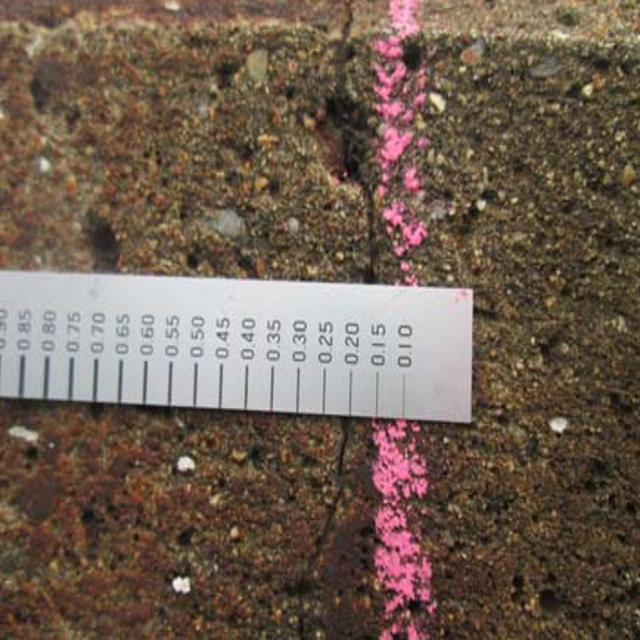crack: (322, 7, 387, 277), (287, 418, 355, 640)
